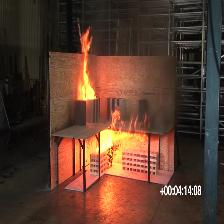fire: (101, 106, 148, 164), (79, 28, 97, 100)
